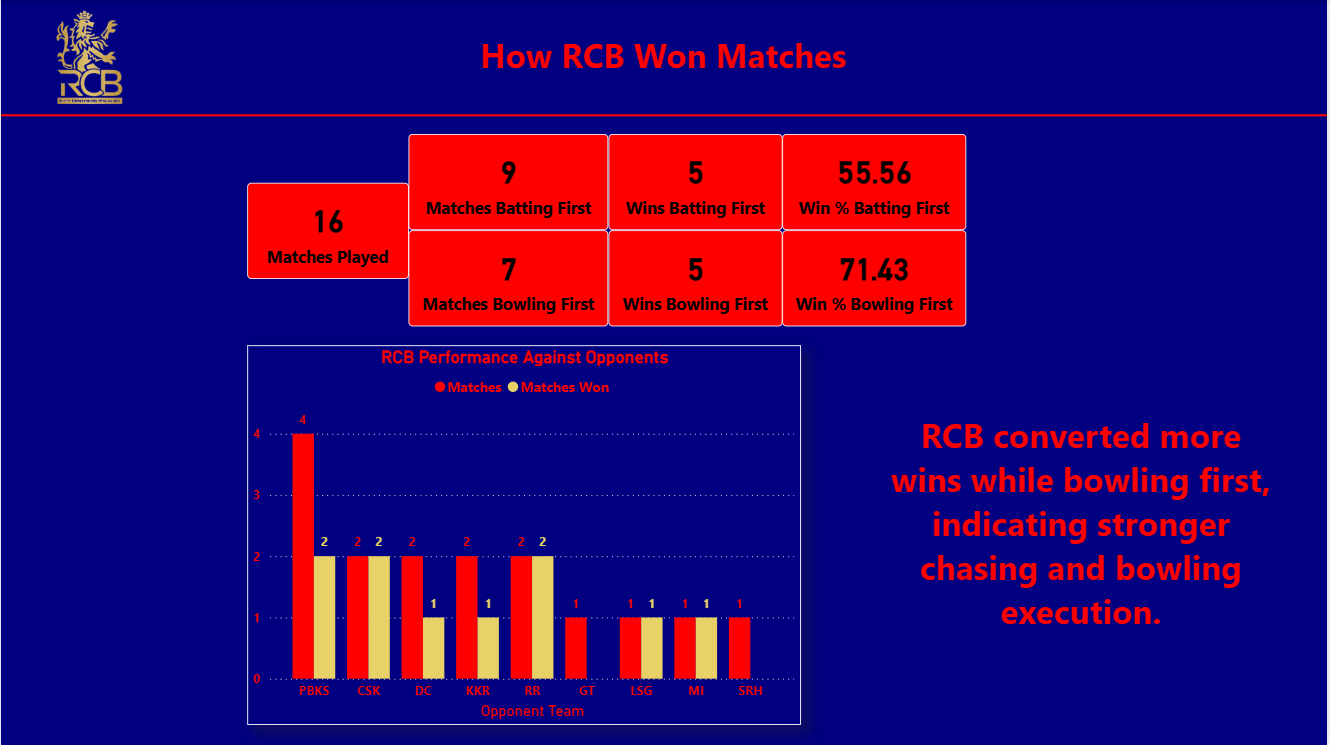

This screenshot's page, from the dashboard's own definition file:
{"tool":"powerbi","page":{"name":"How","canvas":[1280,720],"ordinal":2},"visuals":[{"type":"shape","box":[0,0,1280,224.4],"z":0},{"type":"image","box":[0,0,170.1,112.2],"z":1000},{"type":"textbox","box":[106.2,27.7,1066.5,57.9],"z":2000},{"type":"card","fields":{"Values":["Fact matches.Matches Played"]},"box":[237.7,177.3,155.6,92.9],"z":3000},{"type":"card","fields":{"Values":["Fact matches.Matches Batting First"]},"box":[393.3,130.3,193,92.9],"z":4000},{"type":"card","fields":{"Values":["Fact matches.Wins Batting First"]},"box":[586.3,130.3,167.7,92.9],"z":5000},{"type":"card","fields":{"Values":["Fact matches.Wins Bowling First"]},"box":[586.3,223.2,167.7,92.9],"z":6000},{"type":"card","fields":{"Values":["Fact matches.Wins Bowling First"]},"box":[393.3,223.2,193,92.9],"z":7000},{"type":"card","fields":{"Values":["Fact matches.Win % Batting First"]},"box":[754,130.3,177.3,92.9],"z":8000},{"type":"card","fields":{"Values":["Fact matches.Win % Bowling First"]},"box":[754,223.2,177.3,92.9],"z":9000},{"type":"clusteredColumnChart","title":"RCB Performance Against Opponents","fields":{"Category":["Dim_Team.Opponent Team"],"Y":["CountNonNull(Dim_Team.Matches)","Fact matches.Matches Won"]},"box":[237.7,334.2,534.5,366.8],"z":10000},{"type":"textbox","box":[853,394.5,378.8,246.1],"z":11000}]}

Visuals, with their boxes in screenshot pixels (x1, y1, x2, y2), scaled from the page's 1280x720 canvas onto the 1330x745 screenshot:
shape: BBox(0, 0, 1329, 232)
image: BBox(0, 0, 177, 116)
textbox: BBox(110, 29, 1219, 89)
card - Fact matches.Matches Played: BBox(247, 183, 409, 280)
card - Fact matches.Matches Batting First: BBox(409, 135, 609, 231)
card - Fact matches.Wins Batting First: BBox(609, 135, 783, 231)
card - Fact matches.Wins Bowling First: BBox(609, 231, 783, 327)
card - Fact matches.Wins Bowling First: BBox(409, 231, 609, 327)
card - Fact matches.Win % Batting First: BBox(783, 135, 968, 231)
card - Fact matches.Win % Bowling First: BBox(783, 231, 968, 327)
"RCB Performance Against Opponents" clusteredColumnChart: BBox(247, 346, 802, 725)
textbox: BBox(886, 408, 1280, 663)
